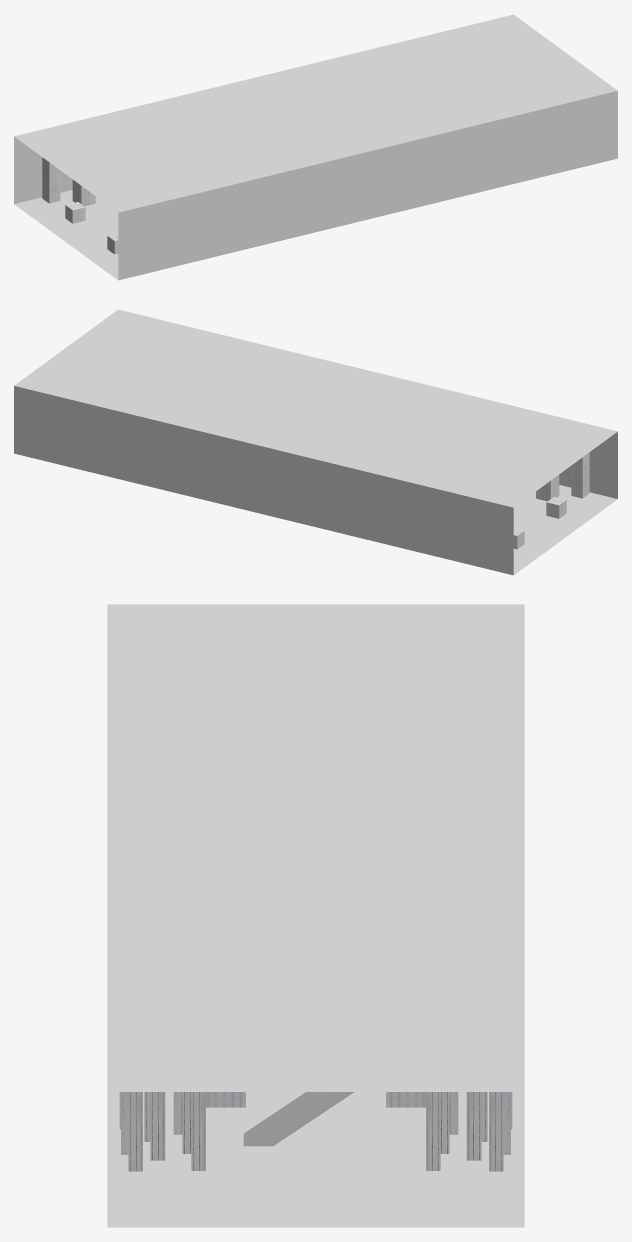
Rendered from MAP3_ori.fbx.
3 views of the same model, one above another, from view 1: azimuth 30°, elevation 25°; view 2: azimuth 150°, elevation 25°; view 3: azimuth 270°, elevation 25° (orthographic). The views are drawn at different scales.
Visible parts, largest first — view 1: Box001, Box202, Box183, Box184; view 2: Box001, Box117, Box098, Box099; view 3: Box001, Box275, Box159, Box244, Box160, Box245, Box157, Box242.
Boxes of the visible parts, x1=… form: Box001: x1=14, y1=14, x2=617, y2=280; Box202: x1=42, y1=157, x2=60, y2=203; Box183: x1=72, y1=179, x2=95, y2=206; Box184: x1=65, y1=202, x2=85, y2=223; Box001: x1=14, y1=309, x2=617, y2=575; Box117: x1=571, y1=452, x2=589, y2=498; Box098: x1=536, y1=474, x2=559, y2=501; Box099: x1=546, y1=497, x2=566, y2=518; Box001: x1=107, y1=604, x2=524, y2=1227; Box275: x1=243, y1=1092, x2=354, y2=1146; Box159: x1=128, y1=1092, x2=142, y2=1171; Box244: x1=489, y1=1092, x2=503, y2=1171; Box160: x1=191, y1=1092, x2=205, y2=1170; Box245: x1=426, y1=1092, x2=440, y2=1170; Box157: x1=150, y1=1092, x2=165, y2=1160; Box242: x1=466, y1=1092, x2=481, y2=1160.
Size of the model in its own units: 775 by 101 by 280.
Materials: 1 (1 with a texture image).
